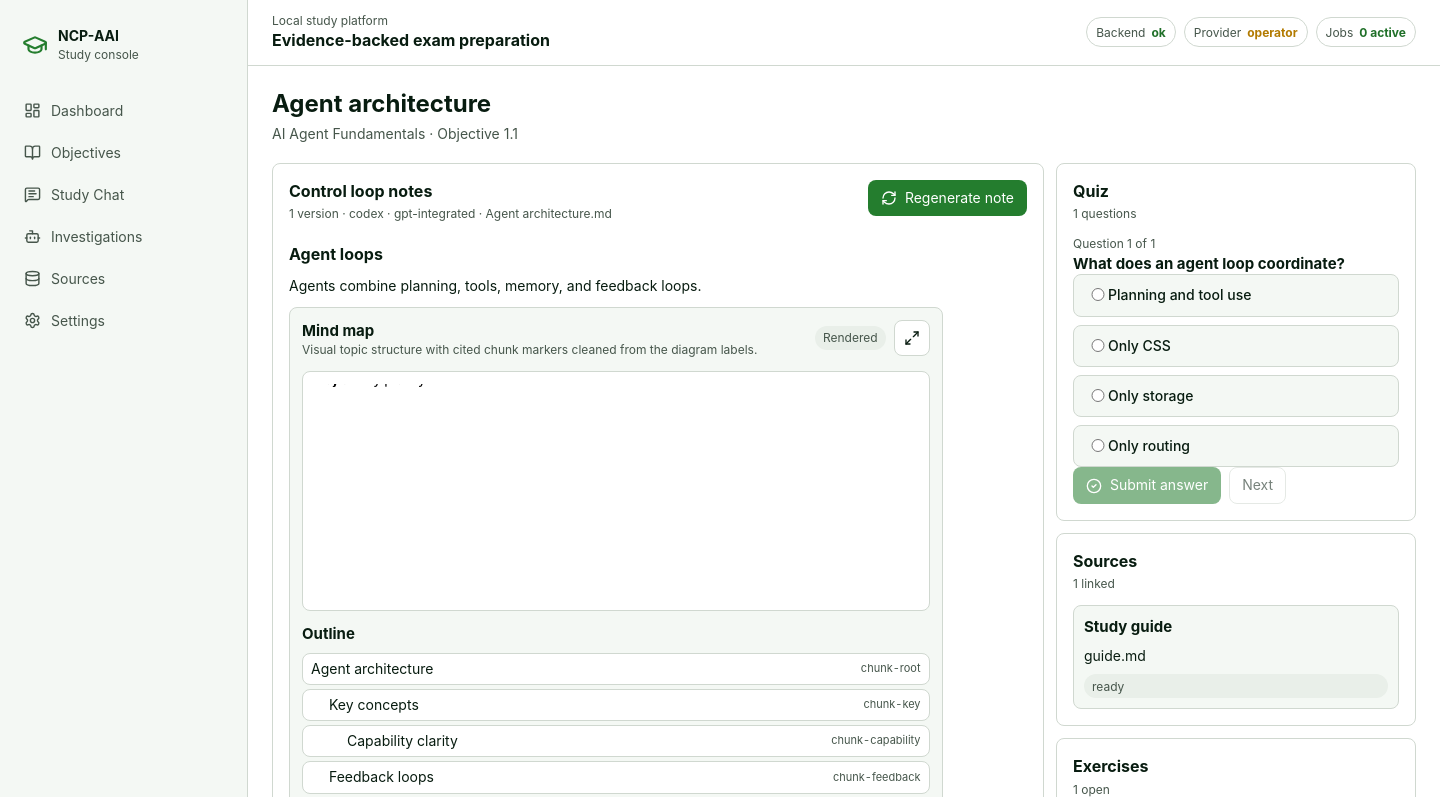
NCP-AAI frontend › starts note regeneration from the topic page and shows host bridge status
Click the button "Regenerate note".
click(947, 198)  # box [868,180,1027,216]
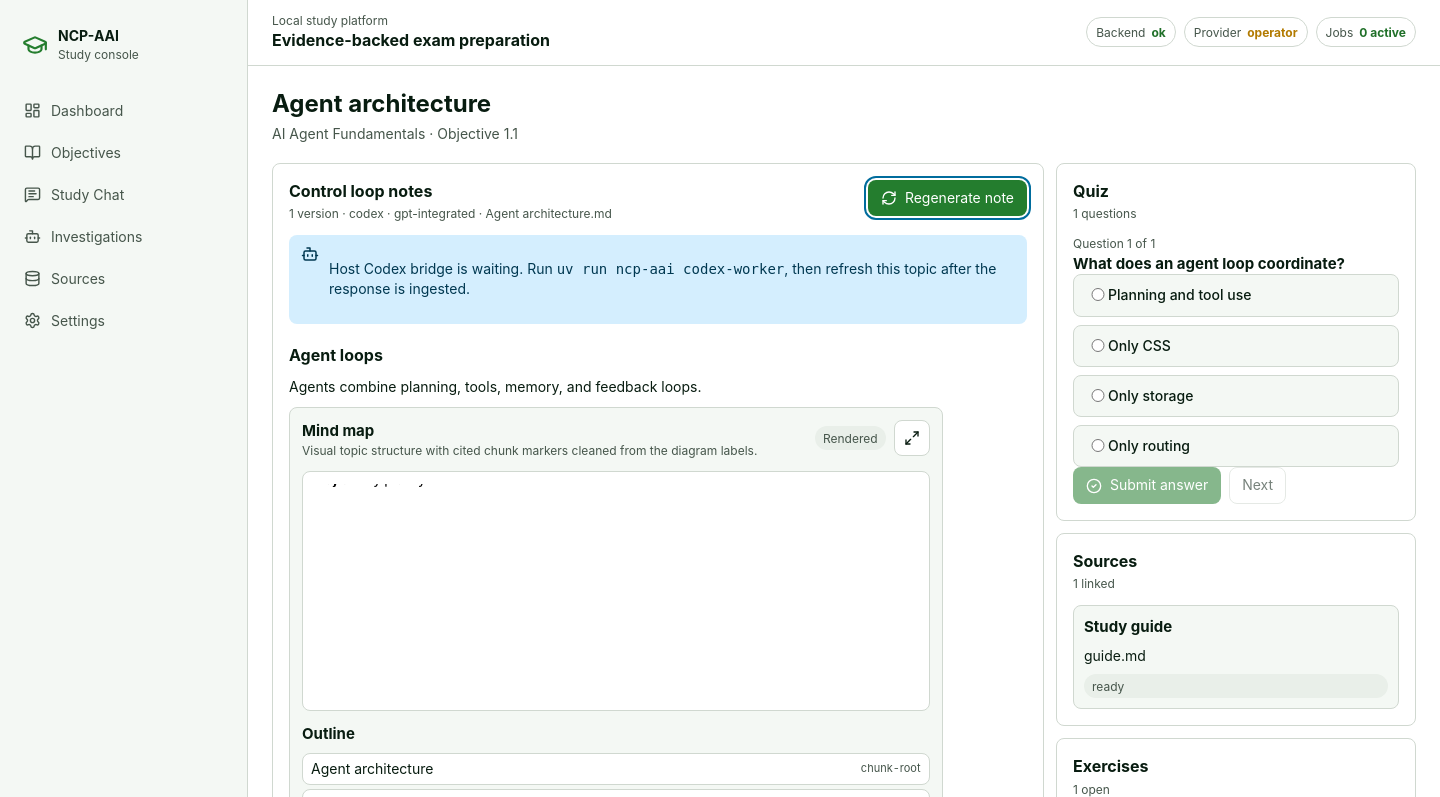
Check: the text "Host Codex bridge is waiting" is shown, box [329,260,557,277]
